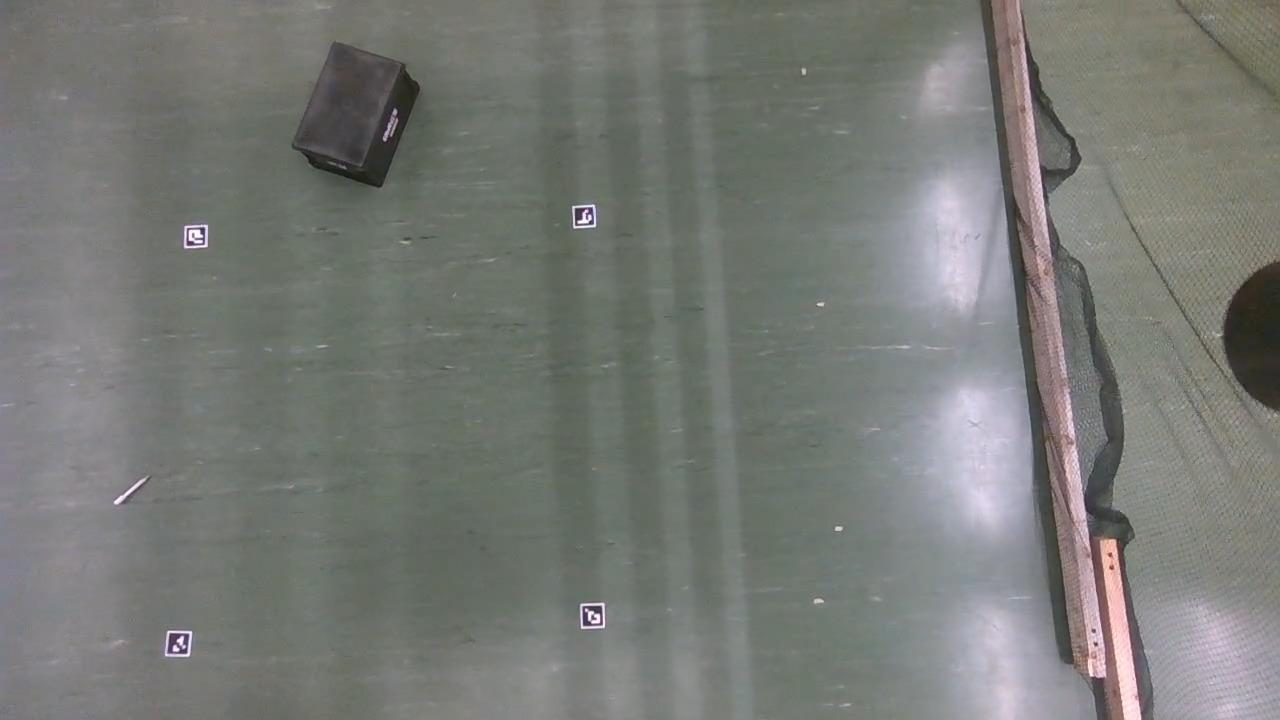probes: (113, 475, 149, 505)
rako: (291, 40, 419, 188)
